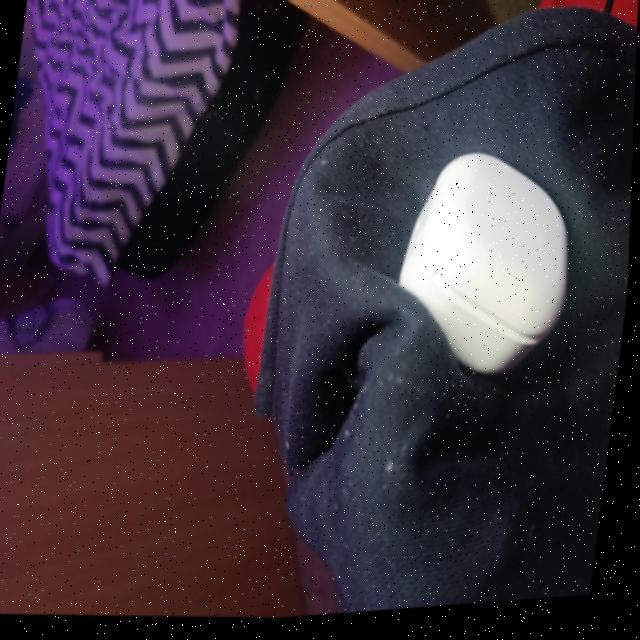headphones: (401, 160, 569, 380)
